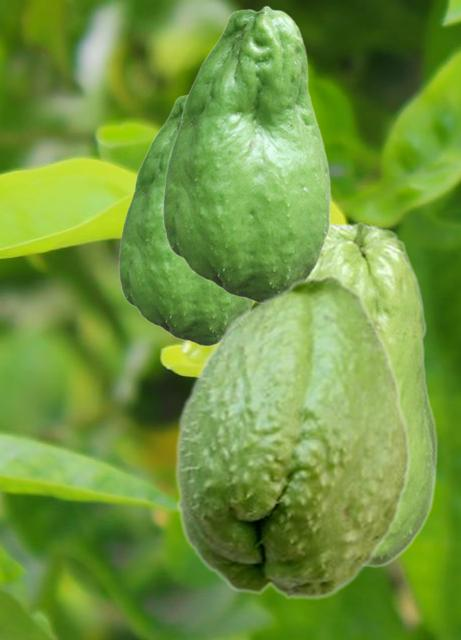sayote: (174, 272, 411, 600), (162, 5, 330, 302), (312, 221, 438, 570), (118, 94, 255, 345)
